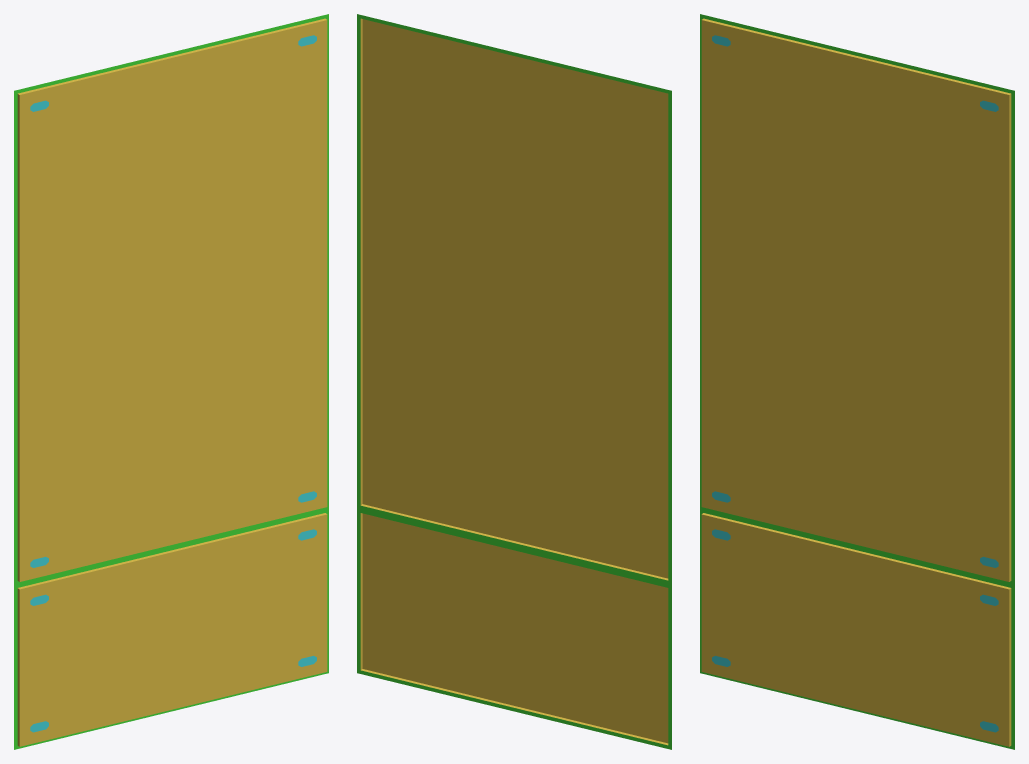
The model's file is Wall_49_B.fbx.
3 views of the same model, side by side, from view 1: azimuth 30°, elevation 25°; view 2: azimuth 150°, elevation 25°; view 3: azimuth 330°, elevation 25° (orthographic).
Parts seen in each view (by area): view 1: Wall_49_B; view 2: Wall_49_B; view 3: Wall_49_B.
Part boxes in pixels (x1,y1,x2,y2): Wall_49_B: (14, 14, 328, 749); Wall_49_B: (357, 14, 671, 749); Wall_49_B: (700, 14, 1014, 749).
Size of the model in its own units: 229 by 457 by 2.72.
